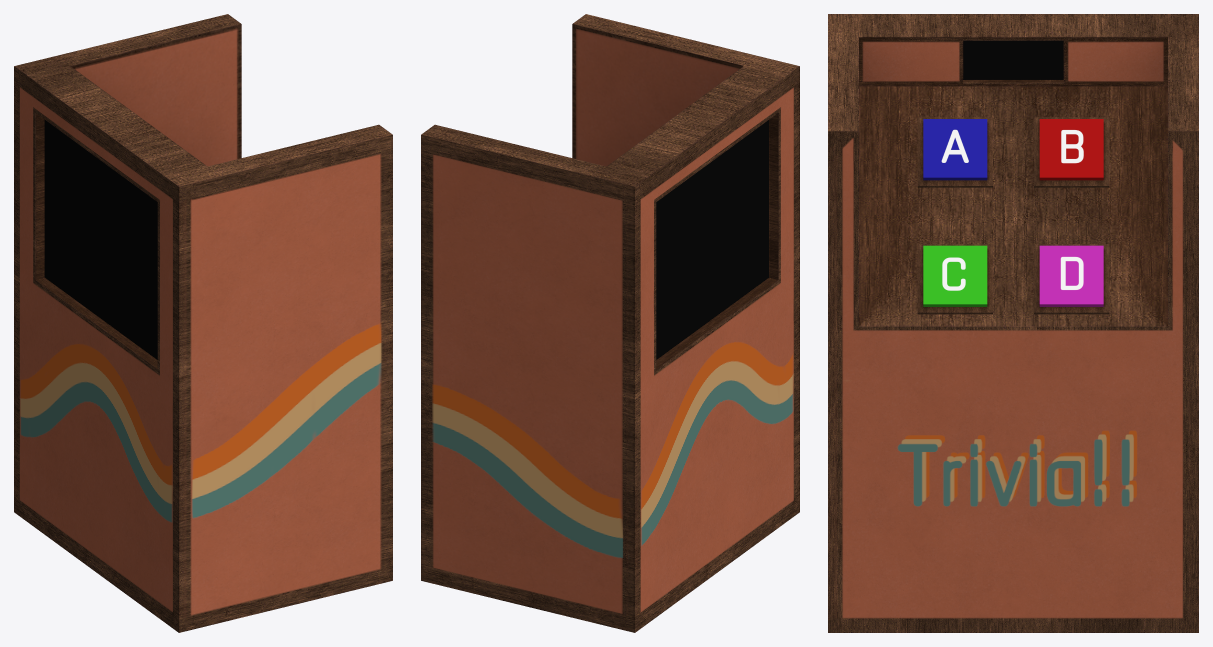
Rendered from trivia.gltf.
The picture shows the model from 3 angles, left to right: view 1: azimuth 30°, elevation 25°; view 2: azimuth 150°, elevation 25°; view 3: azimuth 270°, elevation 25°; orthographic projection. The views are drawn at different scales.
Visible parts, largest first — view 1: TriviaBase; view 2: TriviaBase; view 3: TriviaBase, TriviaButton1, TriviaButton2, TriviaButton3, TriviaButton4, TriviaButtonTrim, TriviaButtonTrim2, TriviaButtonTrim3, TriviaButtonTrim4.
Part boxes in pixels (box(x1,y1,x2,y2)): TriviaBase: box(14, 14, 392, 632); TriviaBase: box(421, 14, 799, 632); TriviaBase: box(828, 14, 1198, 632); TriviaButton1: box(1039, 119, 1103, 180); TriviaButton2: box(923, 119, 987, 180); TriviaButton3: box(923, 245, 987, 306); TriviaButton4: box(1039, 245, 1103, 306); TriviaButtonTrim: box(1034, 117, 1109, 187); TriviaButtonTrim2: box(917, 117, 992, 187); TriviaButtonTrim3: box(917, 244, 992, 314); TriviaButtonTrim4: box(1034, 244, 1109, 314).
Size of the model in its own units: 0.0477 by 0.0951 by 0.0637.
Materials: 5 (5 with a texture image).
